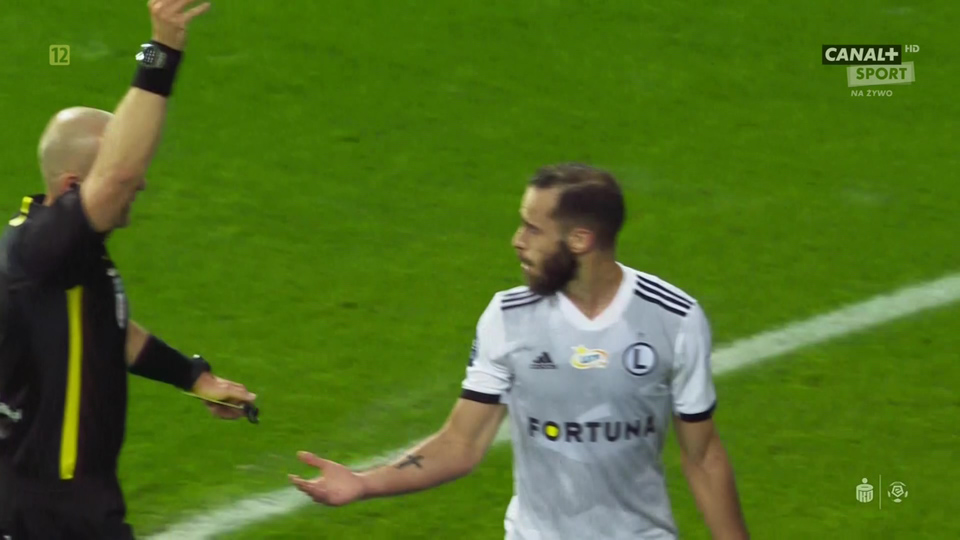Adidas: (530, 350, 558, 370)
